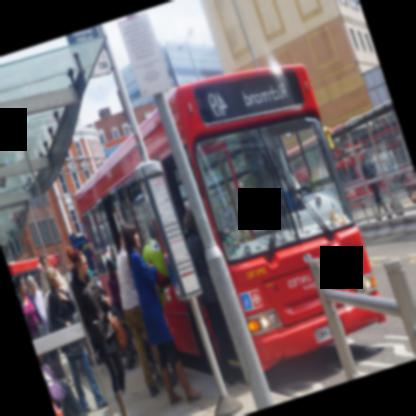backpack: (48, 289, 84, 361)
handbag: (105, 302, 130, 353), (19, 299, 47, 338), (187, 235, 209, 269), (49, 301, 63, 333)
suitcase: (109, 305, 139, 369), (380, 189, 404, 216)
